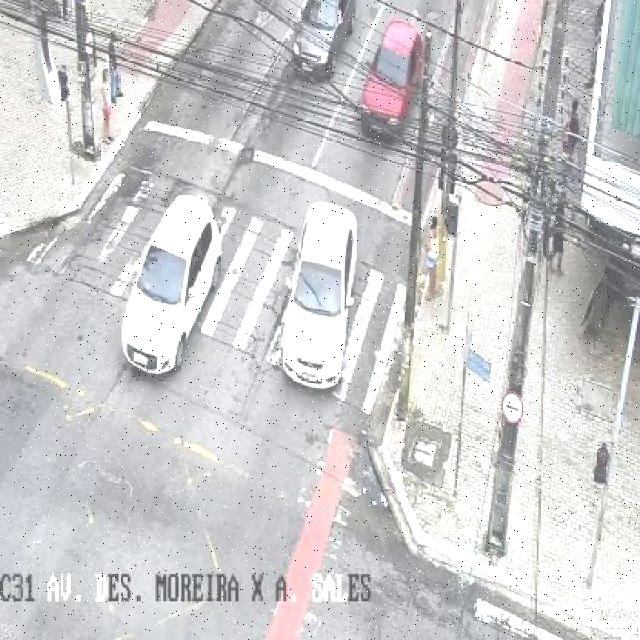Car: (118, 194, 222, 379), (276, 199, 360, 393), (358, 14, 435, 134), (282, 0, 360, 78)
